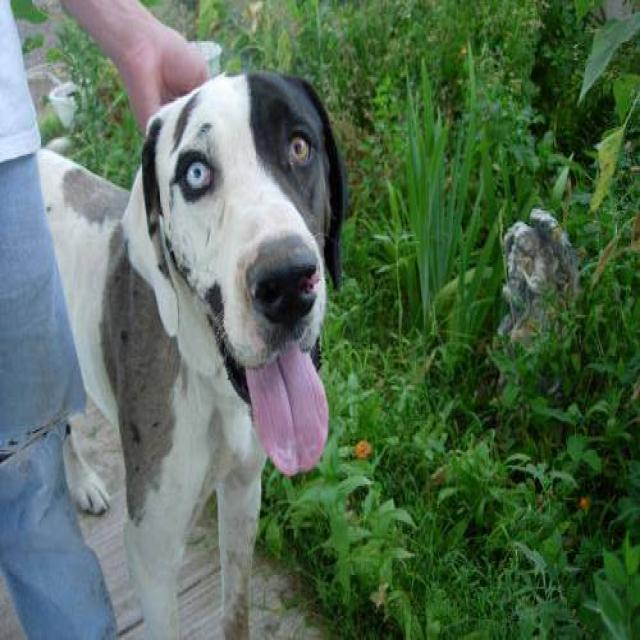dog: (34, 67, 347, 638)
